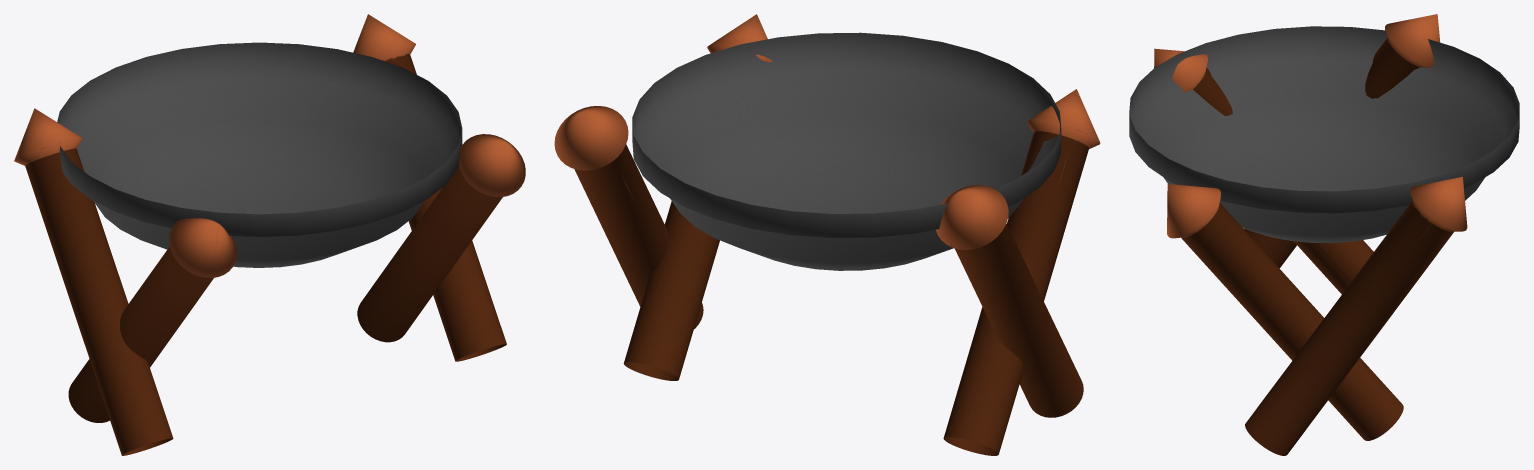
The model's file is HotPot.fbx.
3 renders of one model, left to right at view 1: azimuth 30°, elevation 25°; view 2: azimuth 150°, elevation 25°; view 3: azimuth 270°, elevation 25°, orthographic. The views are drawn at different scales.
Parts seen in each view (by area): view 1: Hotpot; view 2: Hotpot; view 3: Hotpot.
Boxes of the visible parts, x1,y1,x2,y2 form: Hotpot: [14, 14, 525, 455]; Hotpot: [554, 14, 1100, 455]; Hotpot: [1129, 14, 1519, 455].
Size of the model in its own units: 927 by 618 by 792.
3 materials, 3 textured.
